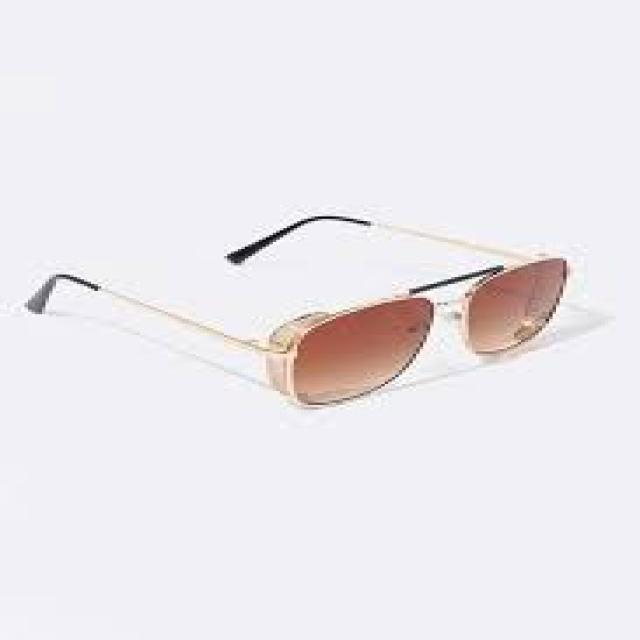sunglasses: (218, 253, 564, 406)
